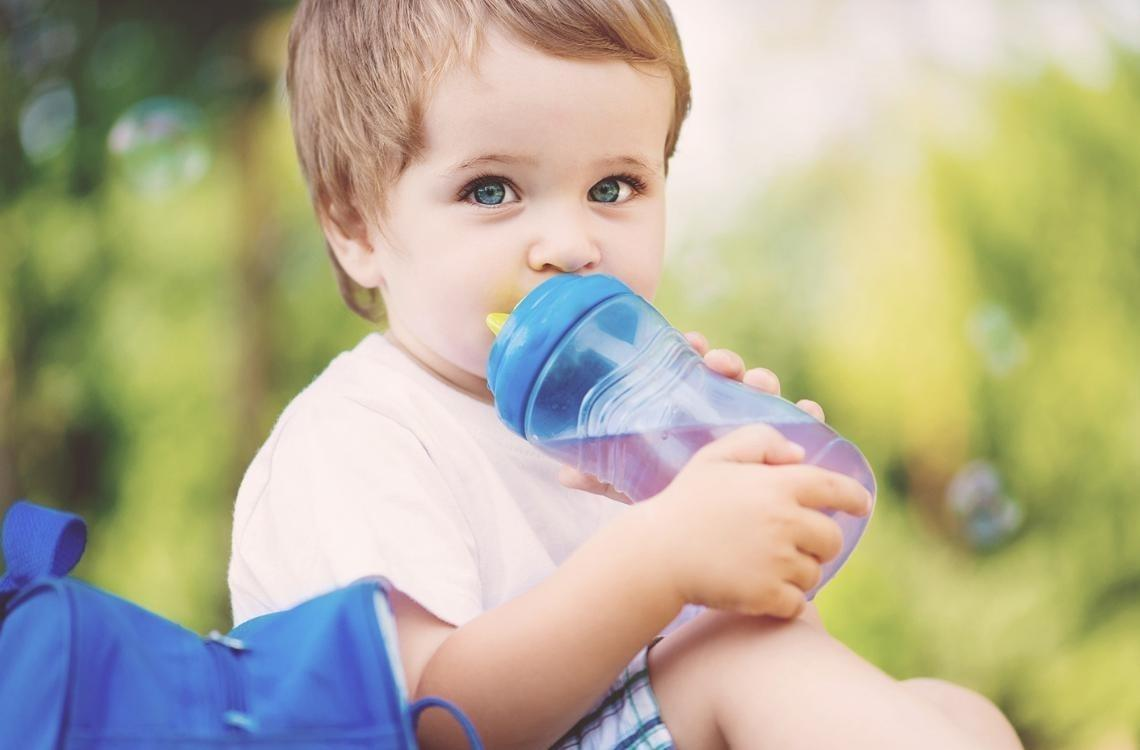gym bottle: (487, 271, 875, 538)
